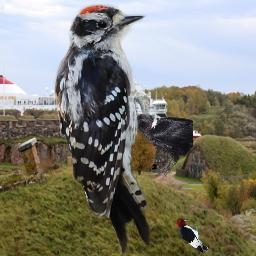Crow: (125, 114, 193, 180)
Woodpecker: (51, 4, 150, 255), (177, 218, 210, 254)
